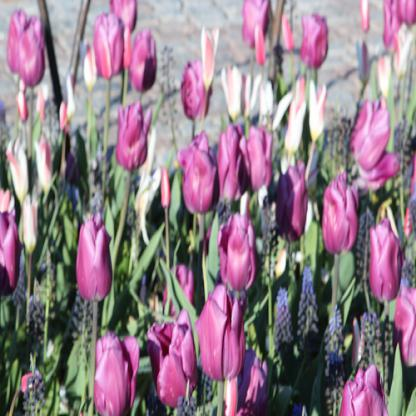TULIP: (17, 15, 413, 402)
